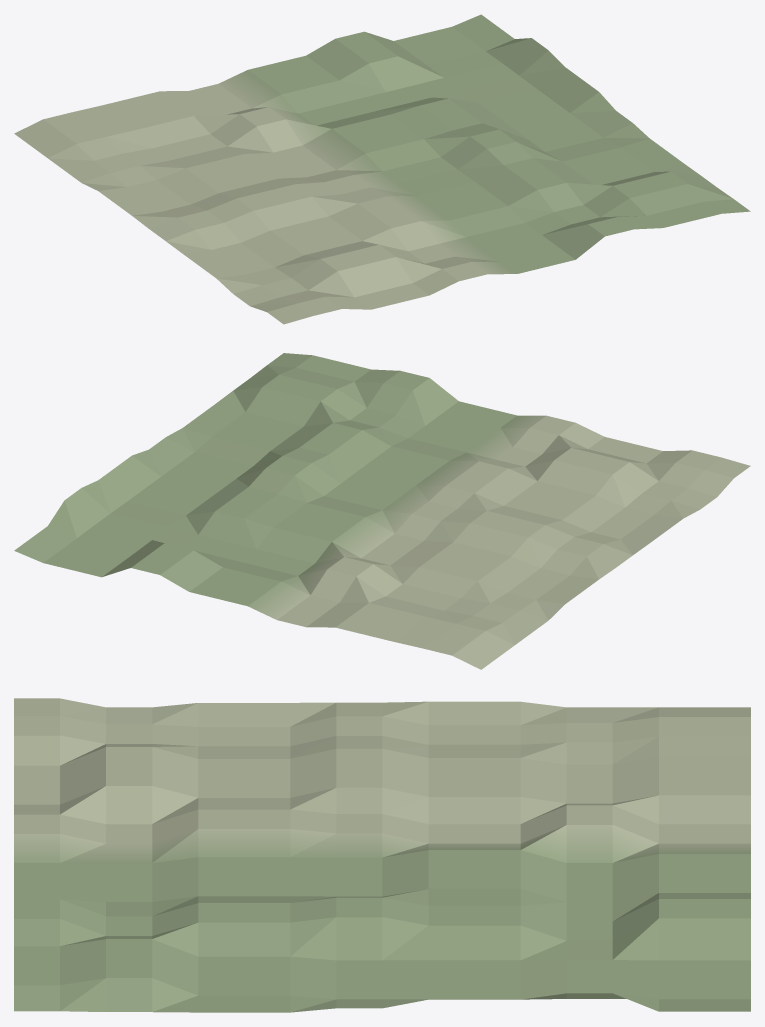
The picture shows the model from 3 angles, top to bottom: view 1: azimuth 30°, elevation 25°; view 2: azimuth 150°, elevation 25°; view 3: azimuth 270°, elevation 25°; orthographic projection. The views are drawn at different scales.
Size of the model in its own units: 32 by 1.22 by 32.
